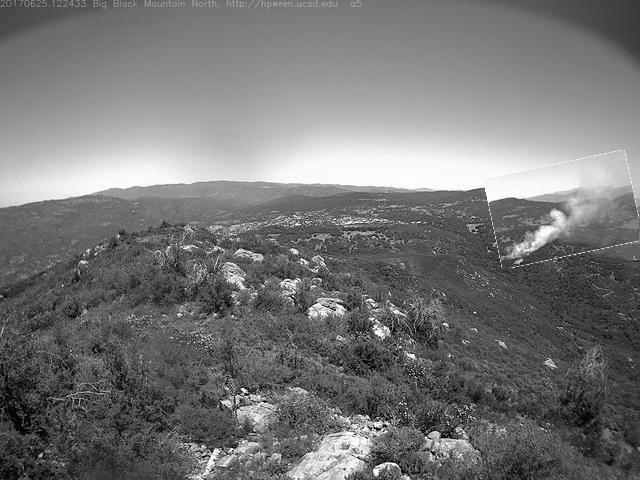smoke: (489, 158, 640, 264)
